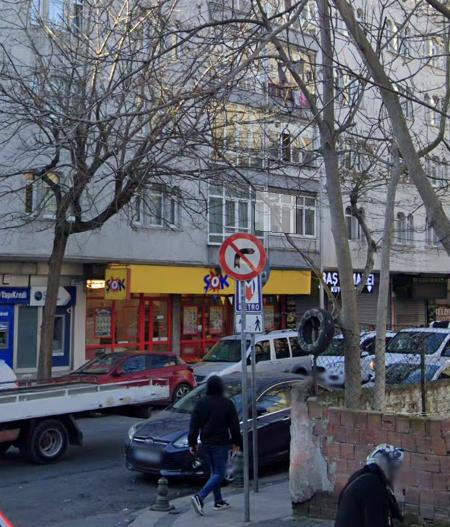rightturnsareforbidden: (221, 234, 265, 279)
